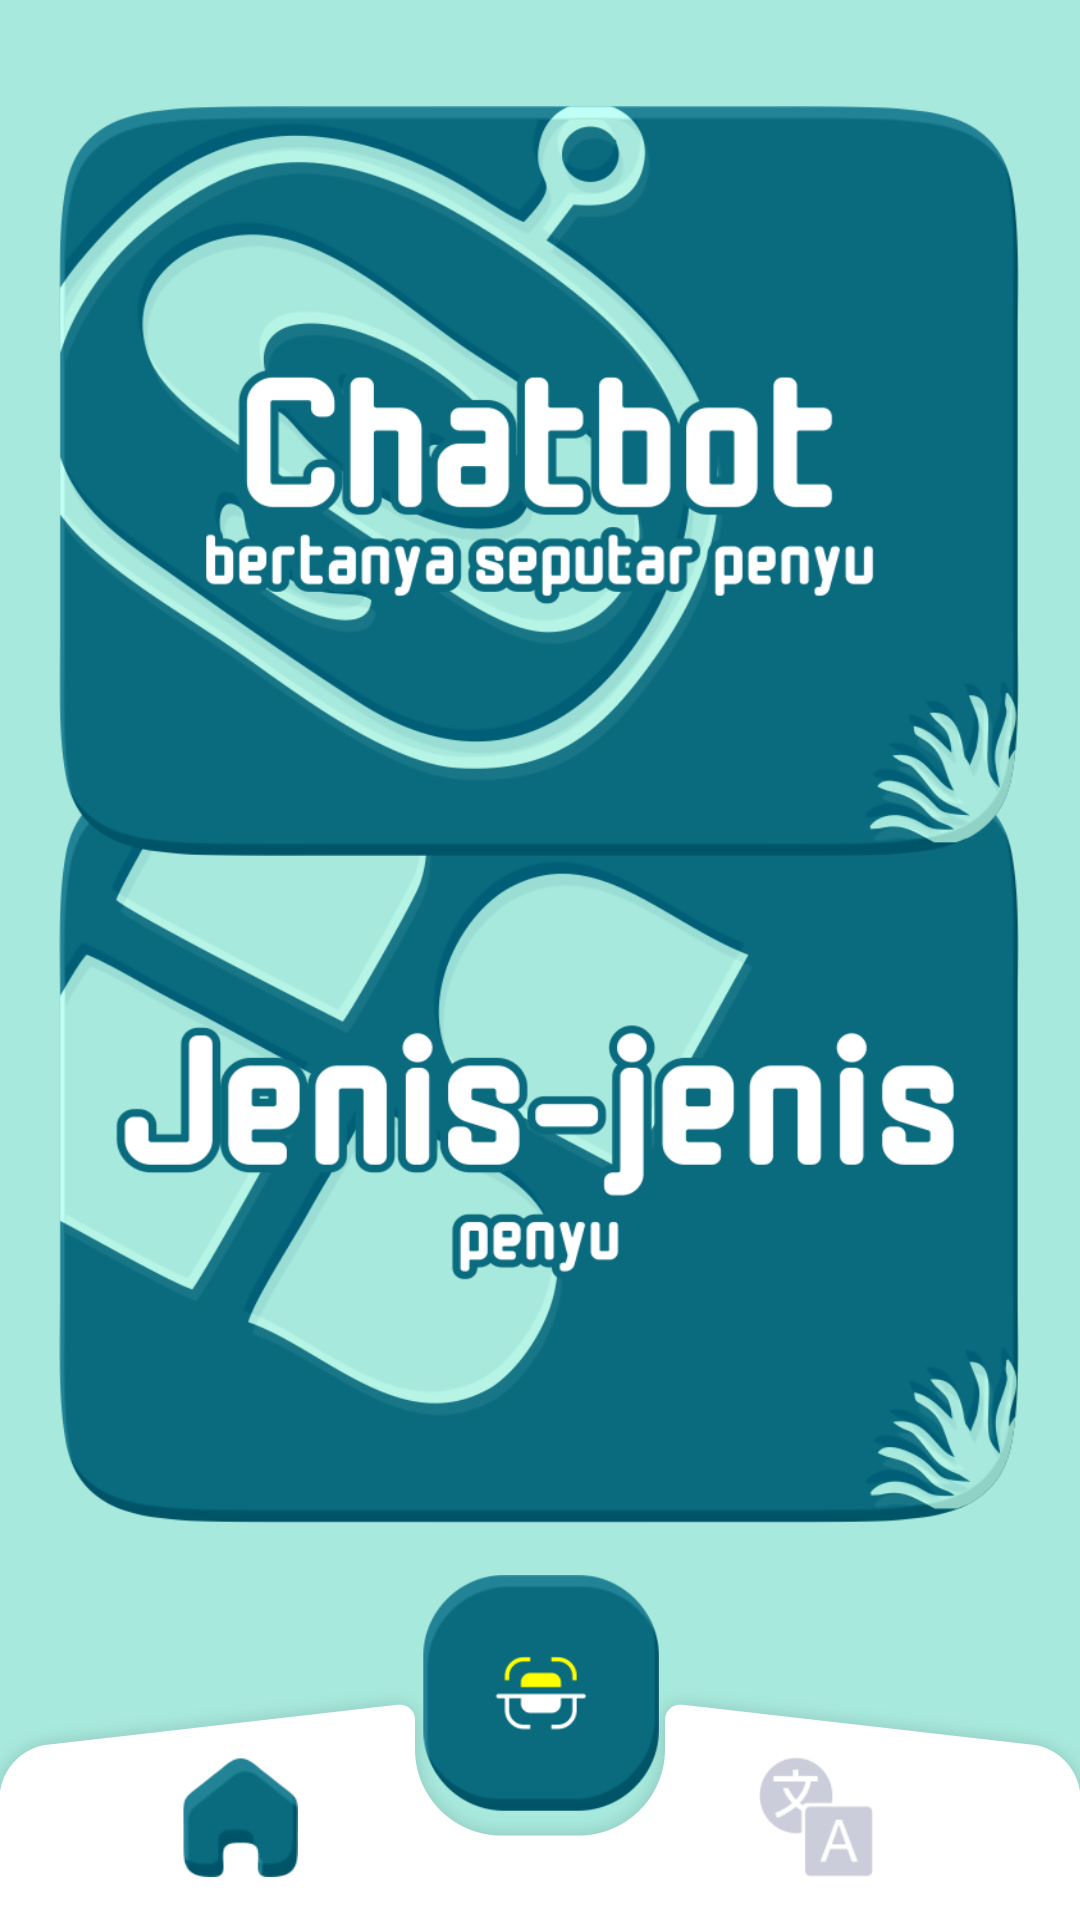

Icons on this 1080w x 1920h Android screen, each with its box as [x1,y1,x2,y2]:
btnhome: [183,1758,298,1877]
btnlanguageoff: [760,1758,872,1876]
btnscan: [423,1575,659,1811]
